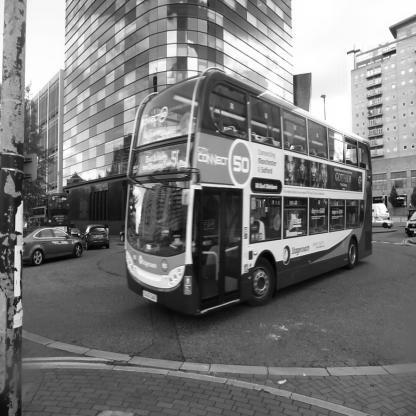bus: (104, 53, 386, 327)
car: (3, 209, 89, 271), (79, 219, 113, 251)
